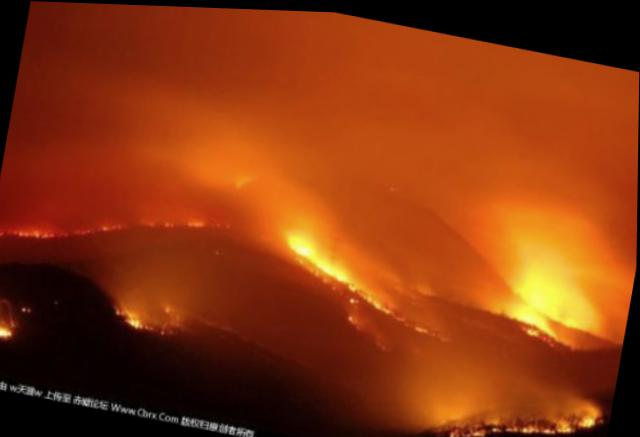fire: (0, 173, 212, 274), (274, 219, 408, 318), (497, 239, 611, 352), (446, 372, 604, 435), (110, 291, 167, 330), (0, 307, 17, 338)
